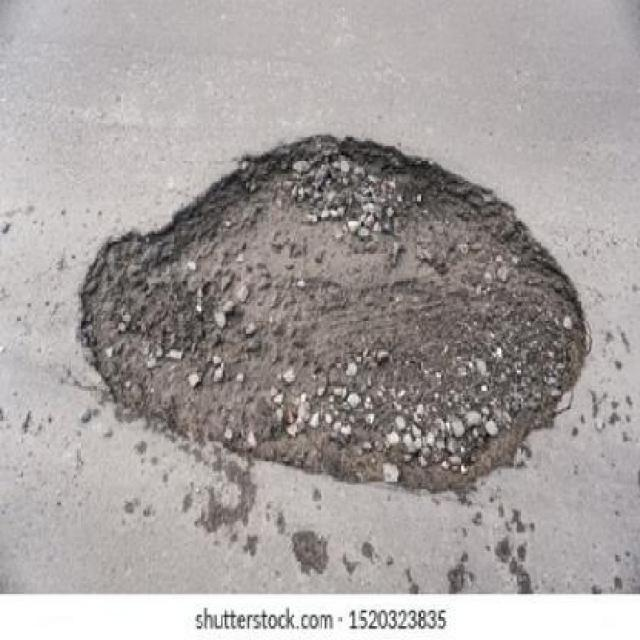pothole: (79, 137, 590, 497)
